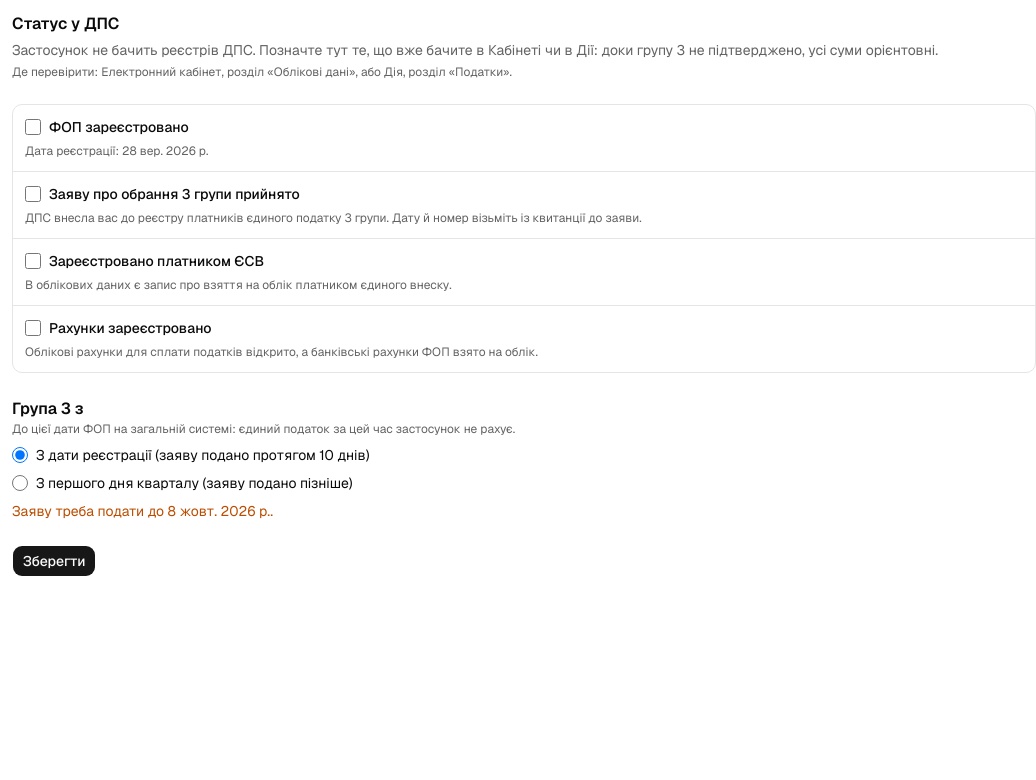
Test: DpsStatusSection › reveals the receipt fields when the application is ticked, and sends every tick
This screenshot has width=1036, height=780.
Step 1. Click the checkbox labelled "ФОП зареєстровано" → click(33, 127), box 25,119 -> 41,135
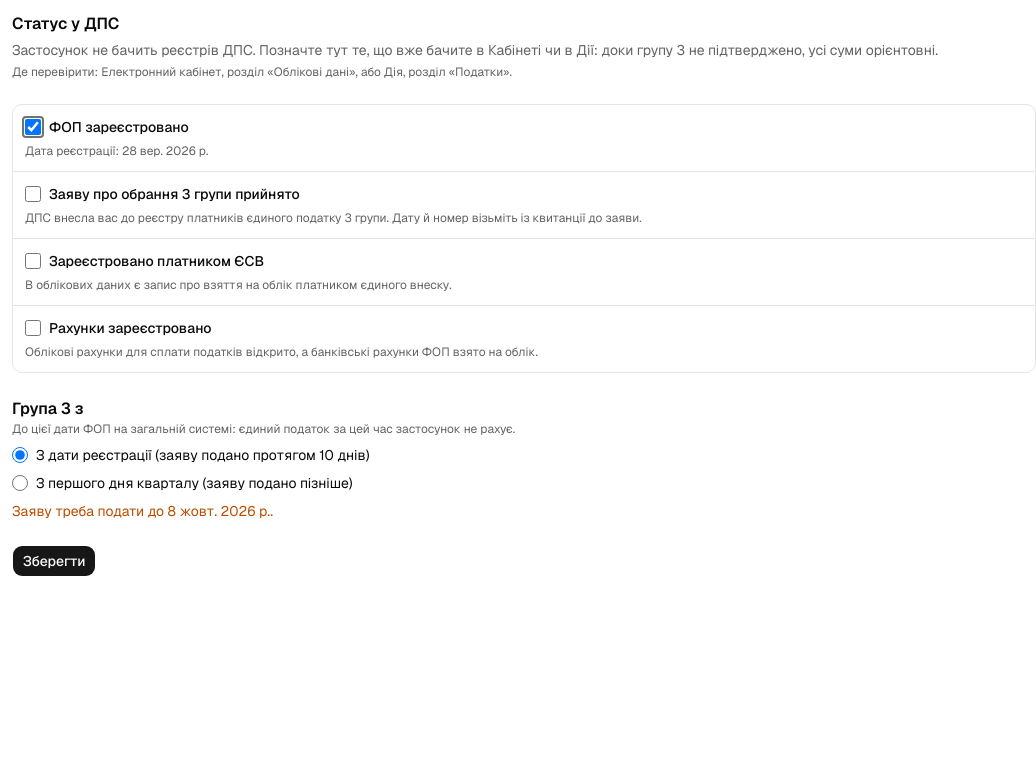
Step 2. Click the checkbox labelled "Заяву про обрання 3 групи прийнято" → click(33, 194), box 25,186 -> 41,202
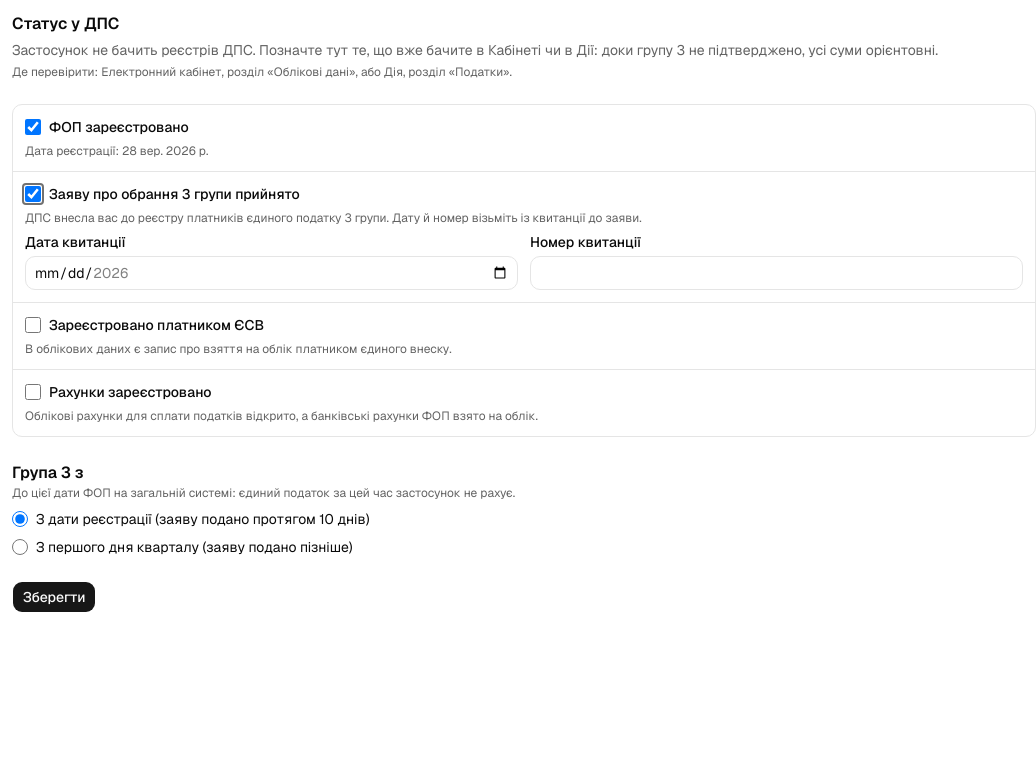
Result: the text "Заяву треба подати до" is gone
Step 3. Type "2026-10-01" into the date field labelled "Дата квитанції" → (272, 273), box 25,256 -> 518,290
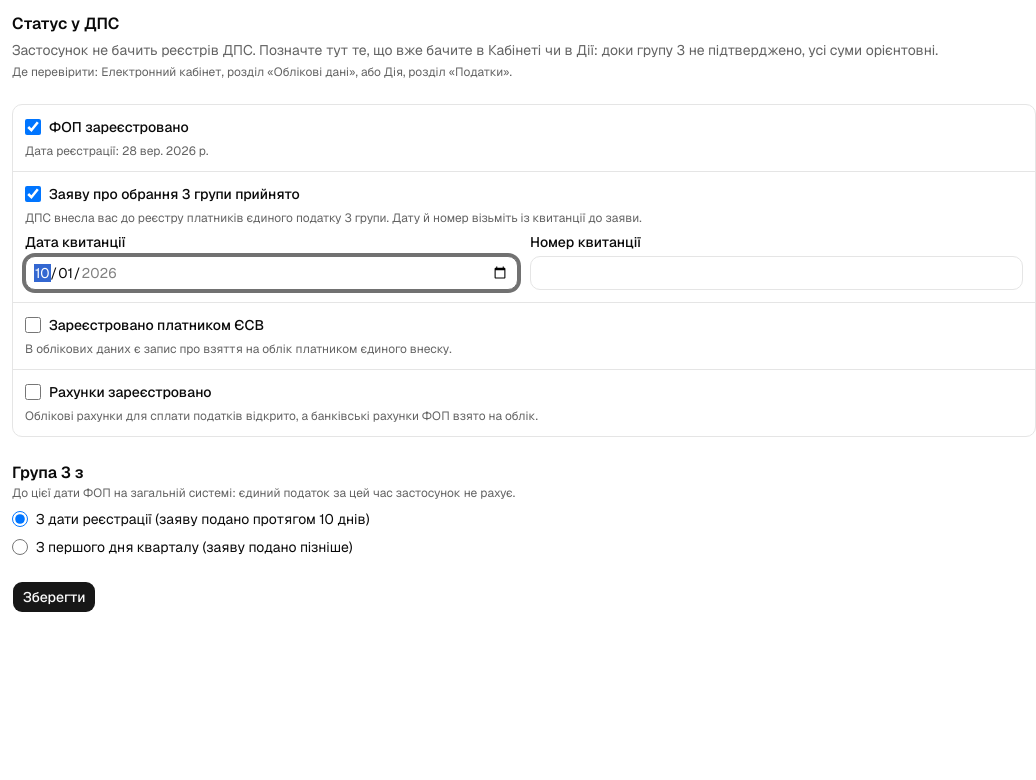
Step 4. Type "9154123456" into the field labelled "Номер квитанції" → (776, 273), box 530,256 -> 1023,290
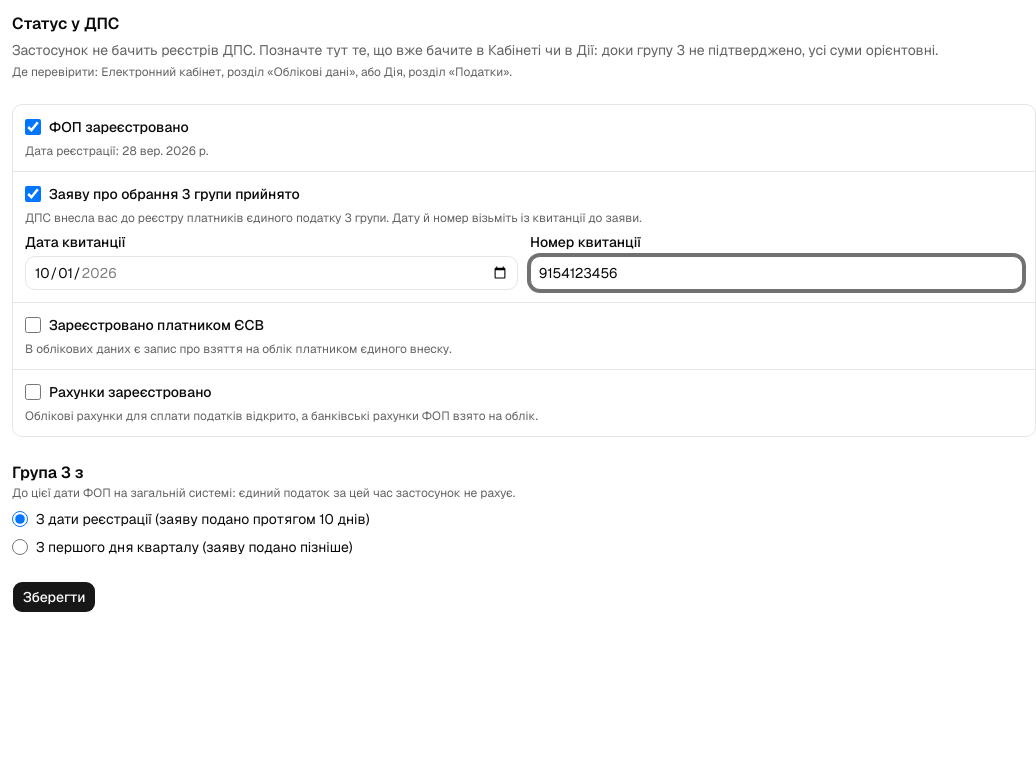
Step 5. Click the checkbox labelled "Рахунки зареєстровано" → click(33, 392), box 25,384 -> 41,400
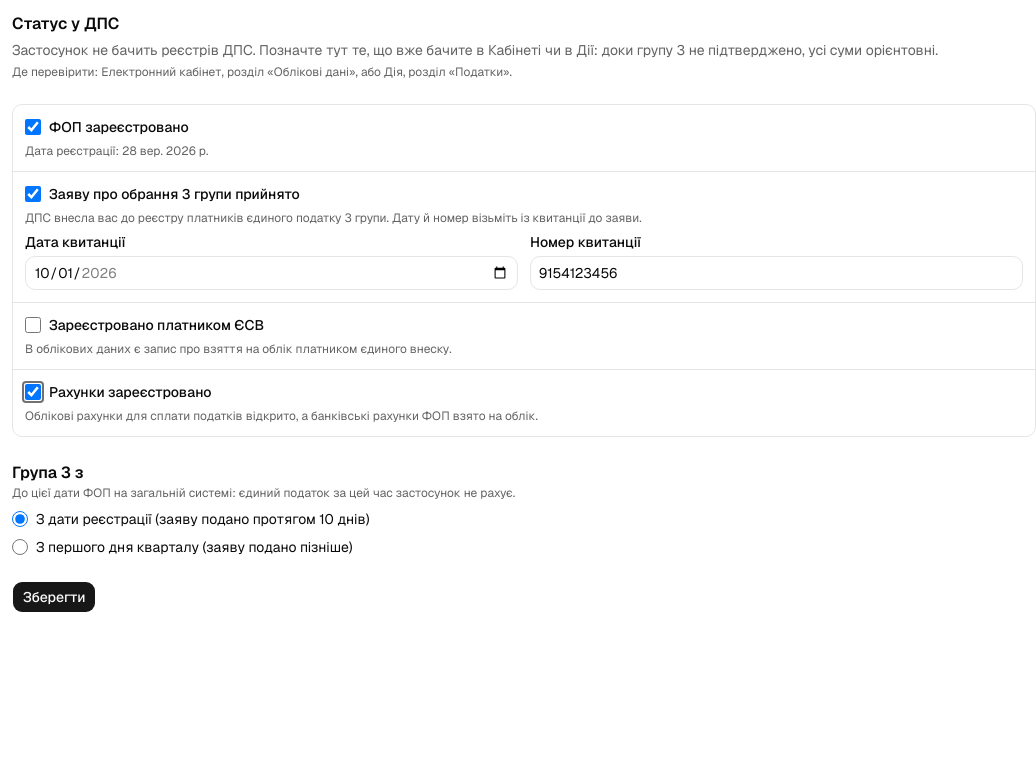
Step 6. Click the button "Зберегти" → click(54, 597), box 12,581 -> 96,613
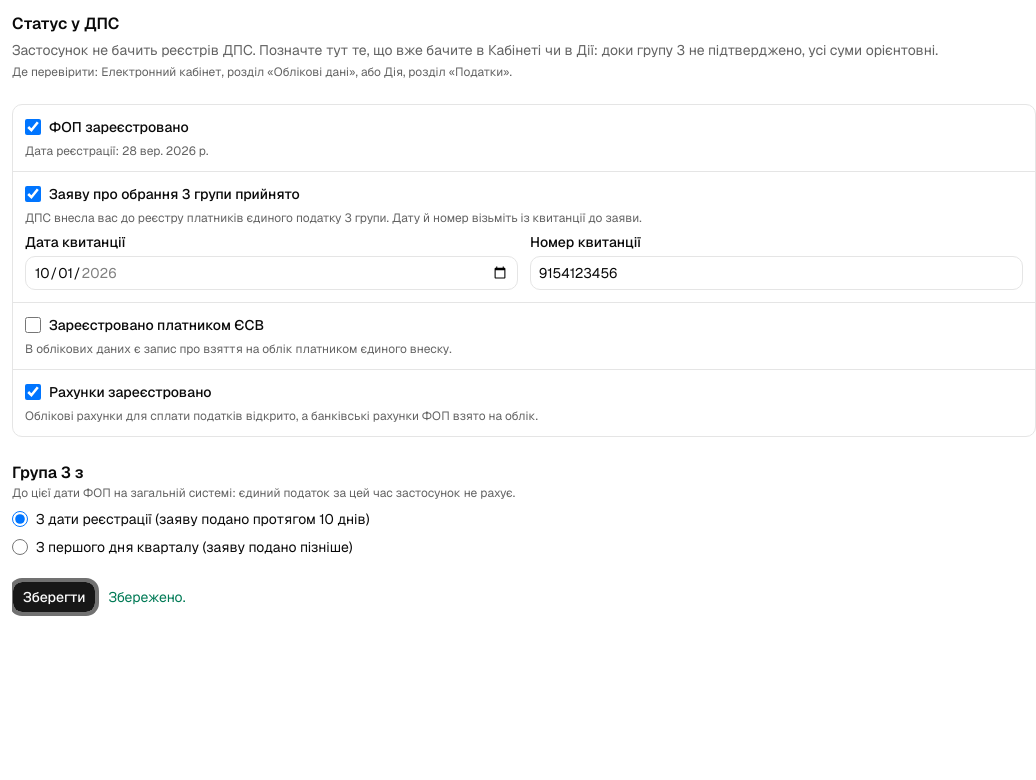
Result: the message reads "Збережено." at 108,588 -> 186,606
